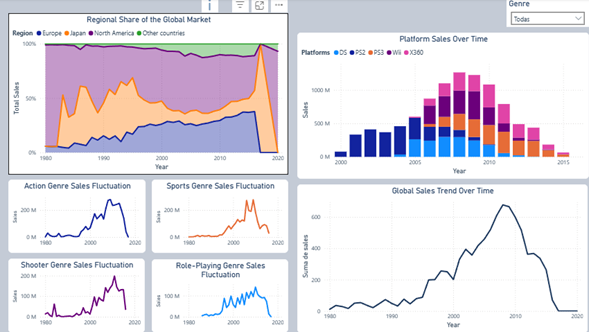

The page's visual inventory and layout, read from the dashboard file:
{"tool":"powerbi","page":{"name":"Trends Over Time","canvas":[1280,720],"ordinal":3},"visuals":[{"type":"lineChart","title":"Global Sales Trend Over Time","fields":{"Category":["sales trends.year"],"Y":["Sum(2 video game sales.Valor)"]},"box":[639.3,385.4,625.9,319.7],"z":0},{"type":"columnChart","title":"Platform Sales Over Time","fields":{"Category":["2 video game sales.year"],"Y":["Sum(2 video game sales.Valor)"],"Series":["2 video game sales.platform"]},"box":[639.3,58.3,625.9,315.2],"z":1000},{"type":"slicer","title":"Genre","fields":{"Values":["2 video game sales.genre"]},"box":[1087.5,0,177.8,58.3],"z":2000},{"type":"lineChart","title":"Action Genre Sales Fluctuation","fields":{"Category":["2 video game sales.year"],"Y":["Sum(2 video game sales.Valor)"],"Series":["2 video game sales.genre"]},"box":[17.9,373.4,295.8,158.3],"z":3000},{"type":"lineChart","title":"Sports Genre Sales Fluctuation","fields":{"Category":["2 video game sales.year"],"Y":["Sum(2 video game sales.Valor)"],"Series":["2 video game sales.genre"]},"box":[327.1,373.4,294.3,158.3],"z":4000},{"type":"lineChart","title":"Shooter Genre Sales Fluctuation","fields":{"Category":["2 video game sales.year"],"Y":["Sum(2 video game sales.Valor)"],"Series":["2 video game sales.genre"]},"box":[19.4,545.2,294.3,159.8],"z":5000},{"type":"lineChart","title":"Role-Playing Genre Sales Fluctuation","fields":{"Category":["2 video game sales.year"],"Y":["Sum(2 video game sales.Valor)"],"Series":["2 video game sales.genre"]},"box":[327.1,545.2,294.3,159.8],"z":6000},{"type":"hundredPercentStackedAreaChart","title":"Regional Share of the Global Market","fields":{"Category":["2 video game sales.year"],"Y":["Sum(2 video game sales.Valor)"],"Series":["2 video game sales.region"]},"box":[17.9,12,603.5,348],"z":7000}]}

Visuals, with their boxes in screenshot pixels (x1, y1, x2, y2), scaled from the page's 1280x720 canvas onto the 589x332 screenshot:
"Global Sales Trend Over Time" lineChart: box=[294, 178, 582, 325]
"Platform Sales Over Time" columnChart: box=[294, 27, 582, 172]
"Genre" slicer: box=[500, 0, 582, 27]
"Action Genre Sales Fluctuation" lineChart: box=[8, 172, 144, 245]
"Sports Genre Sales Fluctuation" lineChart: box=[151, 172, 286, 245]
"Shooter Genre Sales Fluctuation" lineChart: box=[9, 251, 144, 325]
"Role-Playing Genre Sales Fluctuation" lineChart: box=[151, 251, 286, 325]
"Regional Share of the Global Market" hundredPercentStackedAreaChart: box=[8, 6, 286, 166]
